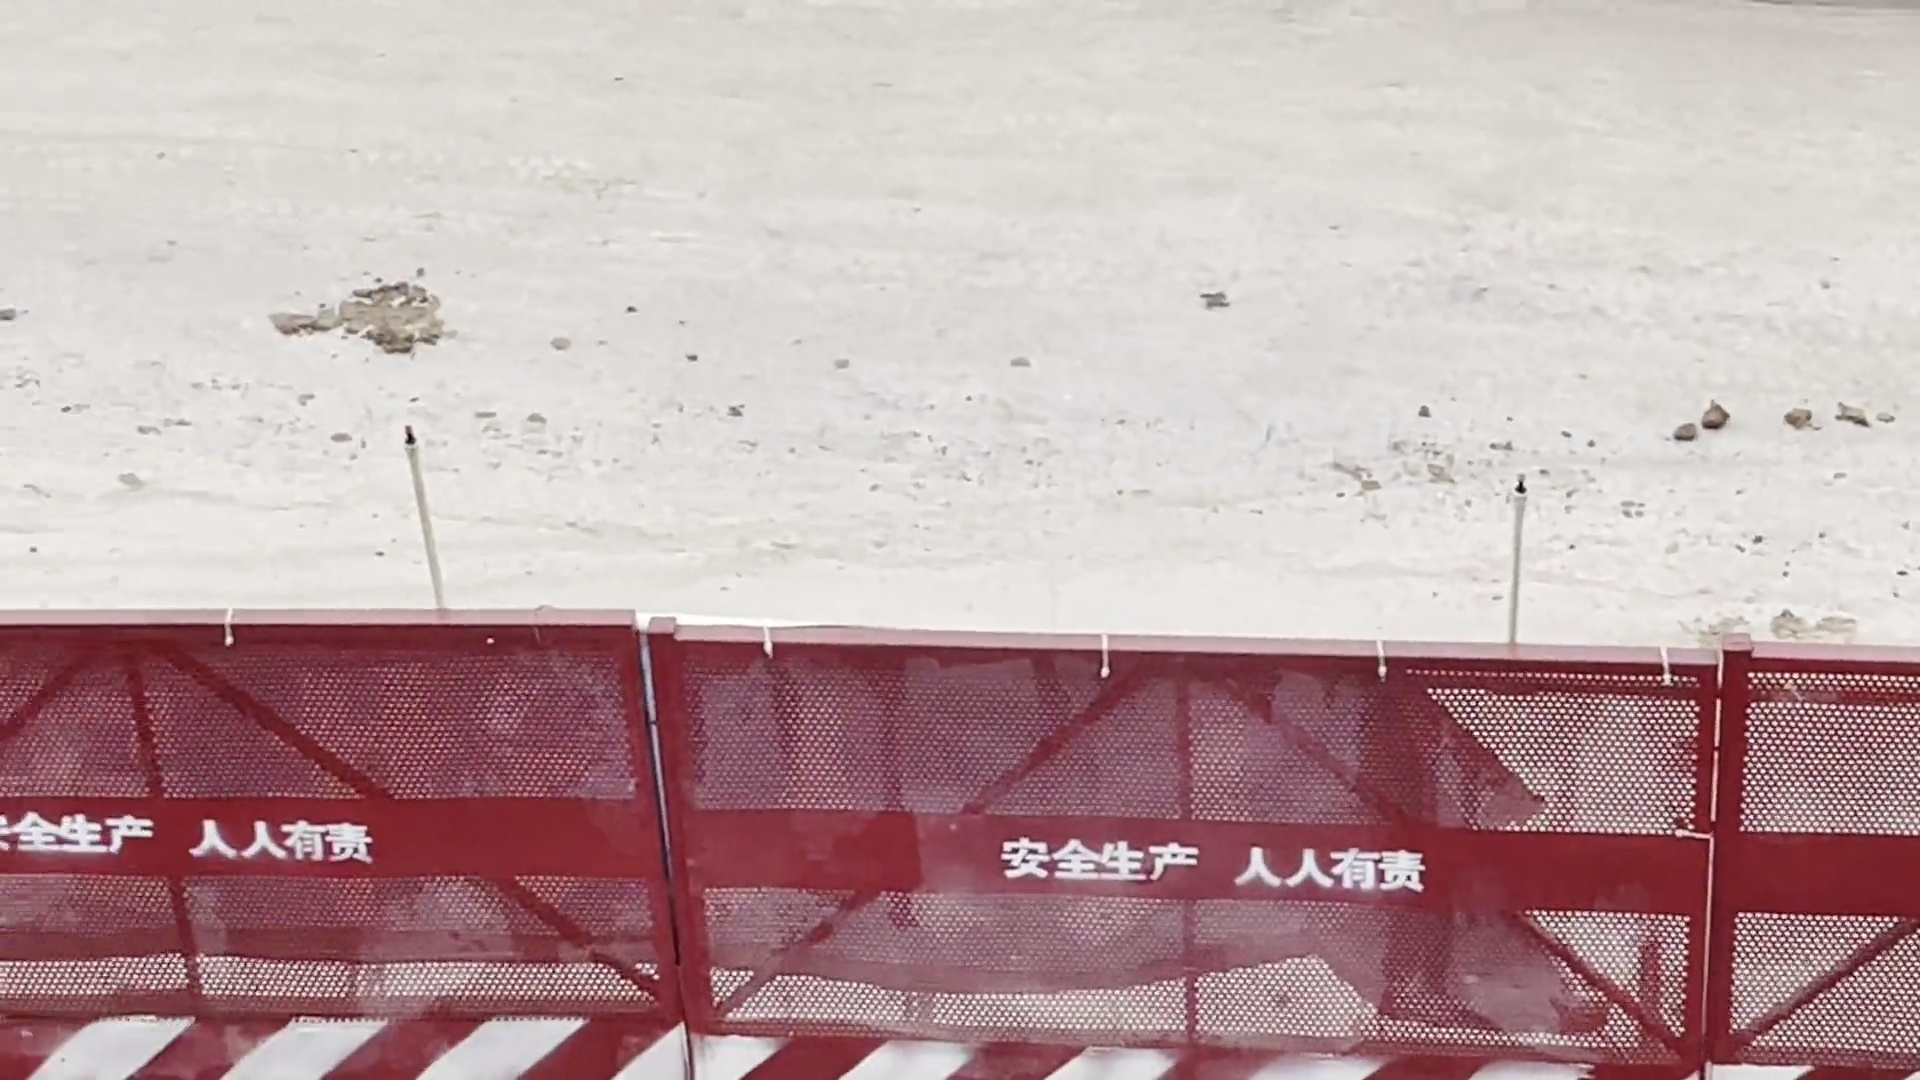fence: (1, 568, 1891, 1073)
